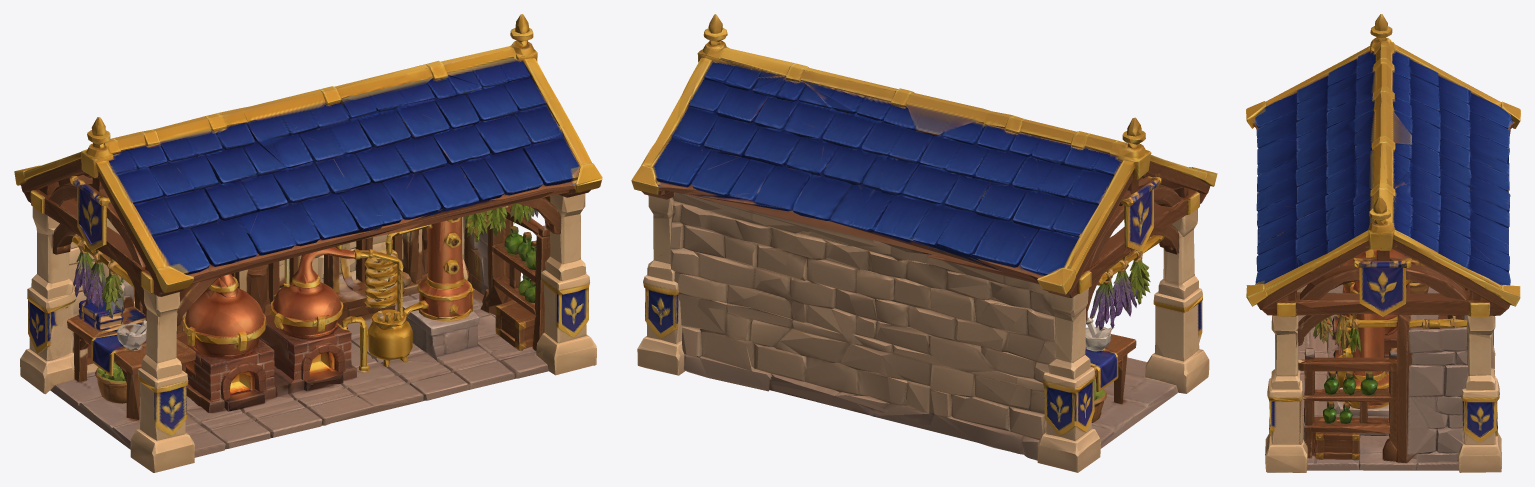
Rendered from stills.glb.
3 views of the same model, side by side, from view 1: azimuth 30°, elevation 25°; view 2: azimuth 150°, elevation 25°; view 3: azimuth 270°, elevation 25° (orthographic). The views are drawn at different scales.
Visible parts, largest first — view 1: Mesh_0; view 2: Mesh_0; view 3: Mesh_0.
Boxes of the visible parts, bbox=[...] form: Mesh_0: bbox=[14, 14, 602, 472]; Mesh_0: bbox=[631, 14, 1217, 472]; Mesh_0: bbox=[1246, 14, 1520, 472].
Size of the model in its own units: 1.9 by 1.25 by 1.14.
1 material, 1 textured.
